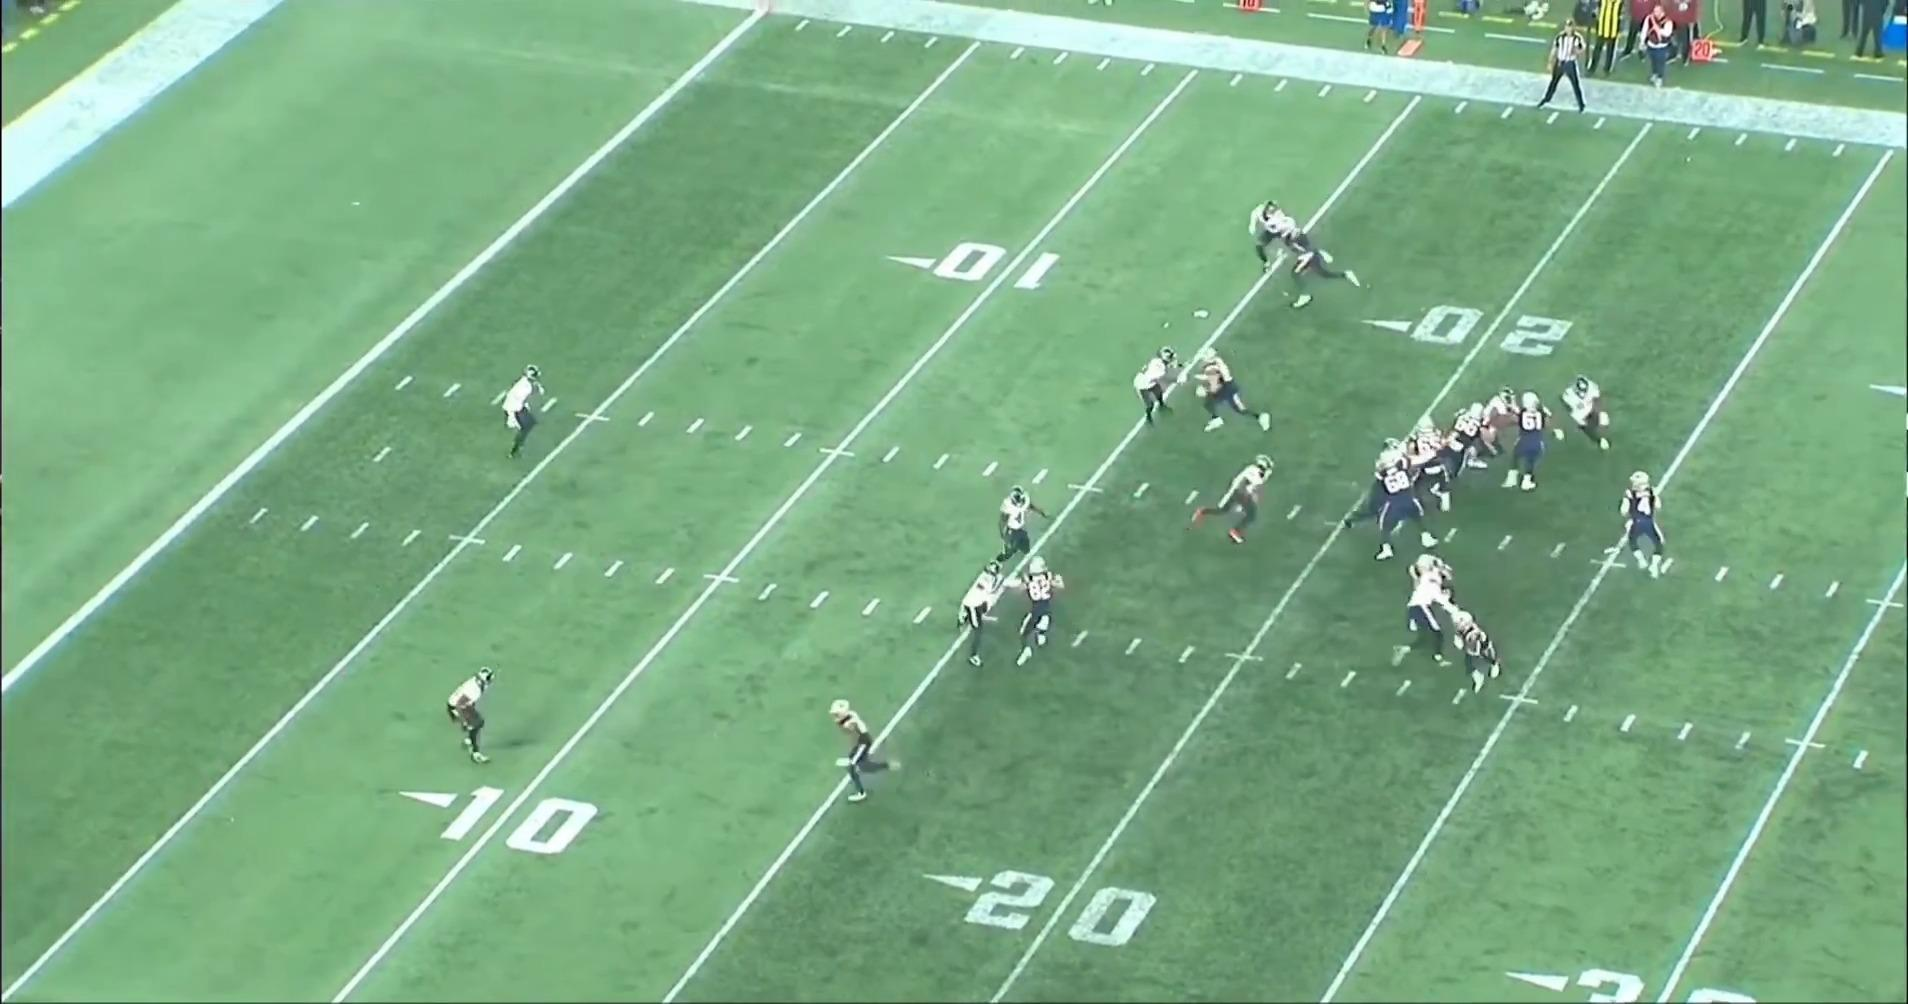player: (1268, 208, 1362, 308), (1185, 346, 1280, 439), (1190, 454, 1282, 550), (1375, 444, 1448, 560), (1339, 436, 1426, 532), (1004, 560, 1072, 672), (1392, 559, 1457, 672), (832, 692, 896, 804), (959, 563, 1020, 675), (1612, 463, 1670, 577), (1499, 391, 1558, 498), (445, 665, 498, 772), (1441, 609, 1502, 697), (496, 360, 547, 462), (1403, 415, 1455, 515), (1141, 340, 1196, 434), (1550, 376, 1611, 459), (1401, 551, 1456, 633), (993, 484, 1048, 563), (1447, 399, 1499, 479), (1242, 194, 1294, 273), (1476, 385, 1516, 470)
ref: (1536, 18, 1594, 112)
